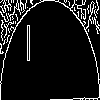I: (25, 25, 32, 71)
